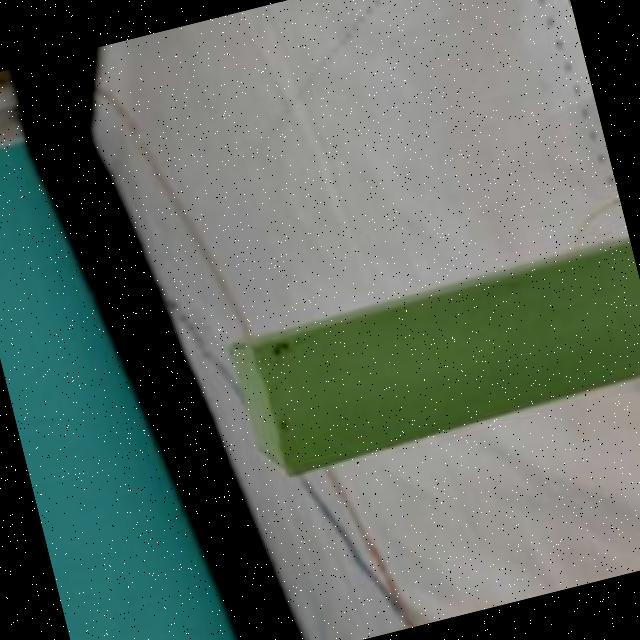greenbox: (221, 237, 640, 488)
